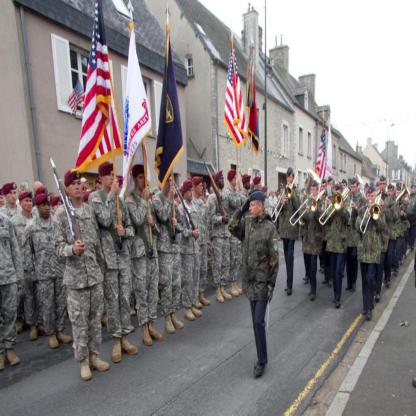face: (68, 179, 82, 199), (103, 170, 116, 188), (250, 201, 260, 219), (40, 203, 51, 219), (137, 173, 147, 190), (23, 197, 33, 211), (7, 191, 17, 204), (165, 177, 173, 193), (186, 188, 194, 201), (197, 184, 204, 196), (368, 193, 375, 204), (55, 202, 62, 213), (311, 187, 317, 198), (22, 187, 28, 197), (352, 183, 357, 194), (287, 176, 293, 185), (1, 194, 5, 207), (328, 182, 334, 190), (381, 183, 386, 192), (389, 189, 394, 198), (246, 180, 251, 189), (221, 177, 225, 188), (257, 181, 261, 190), (322, 185, 326, 194), (397, 191, 402, 198), (343, 184, 347, 192), (376, 186, 380, 194), (98, 183, 103, 189), (365, 187, 369, 193), (412, 188, 416, 194), (235, 176, 237, 186), (174, 187, 177, 193), (205, 184, 207, 189), (272, 192, 274, 197)
